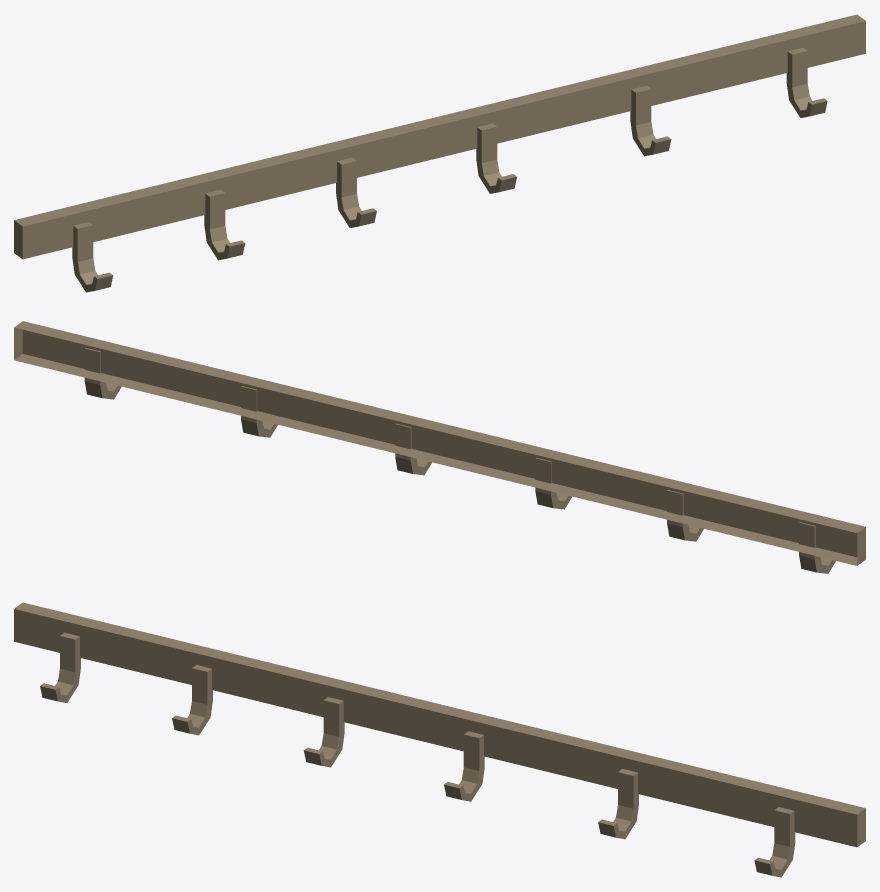
Rendered from SM_Hanger_01.fbx.
The picture shows the model from 3 angles, top to bottom: view 1: azimuth 30°, elevation 25°; view 2: azimuth 150°, elevation 25°; view 3: azimuth 330°, elevation 25°; orthographic projection.
Parts seen in each view (by area): view 1: SM_Hanger_01; view 2: SM_Hanger_01; view 3: SM_Hanger_01.
Part boxes in pixels (bbox=[...]): SM_Hanger_01: bbox=[14, 14, 865, 292]; SM_Hanger_01: bbox=[14, 321, 865, 573]; SM_Hanger_01: bbox=[14, 602, 865, 877].
Size of the model in its own units: 77.67 by 6.06 by 5.31.
